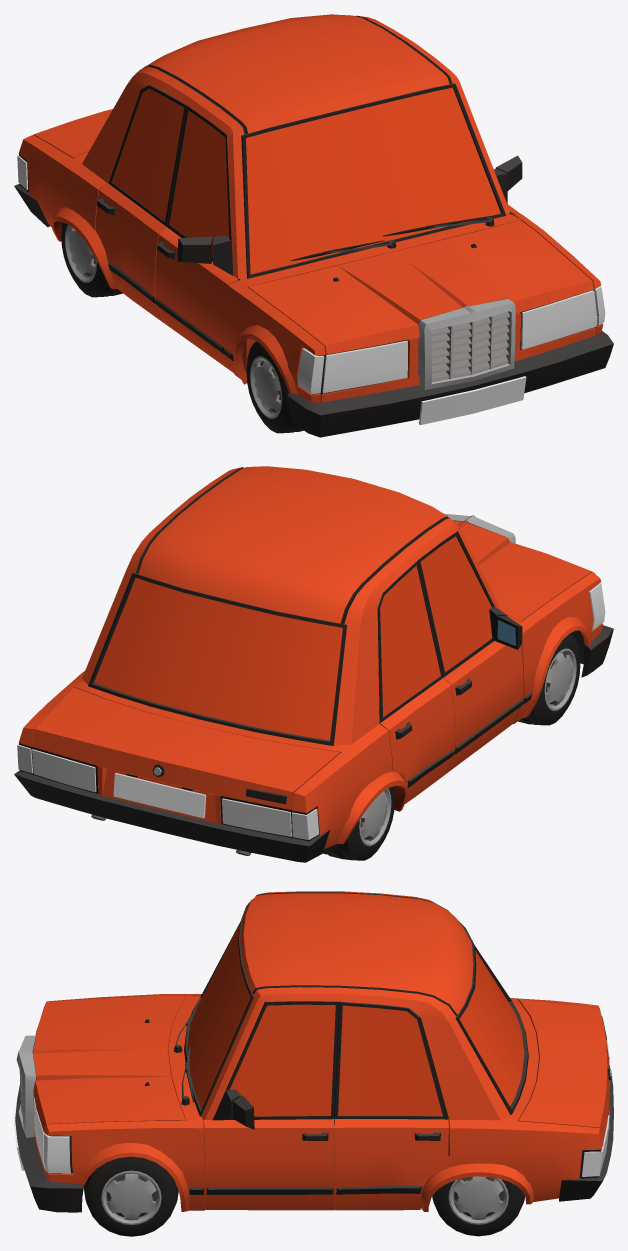
File: car2.fbx
3 views of the same model, one above another, from view 1: azimuth 30°, elevation 25°; view 2: azimuth 150°, elevation 25°; view 3: azimuth 270°, elevation 25° (orthographic). The views are drawn at different scales.
Parts seen in each view (by area): view 1: Body, Bonet, Doors_FR, Doors_RR, Bumper_F, FrontGrill, Fender_FR, Headlights_FR, Headlights_FL, Bootlid, rim.002, Wheel_FR (+6 smaller); view 2: Body, Bootlid, Doors_FR, Doors_RR, Bumper_R, Bonet, Fender_FR, Lights_RR, Lights_RL, rim.002, Wheel_FR, Wheel_RR (+4 smaller); view 3: Body, Doors_FL, Doors_RL, Bonet, Bootlid, Fender_FL, Wheel_FL, Bumper_F, rim, rim.001, Wheel_RL, FrontGrill (+4 smaller).
Boxes of the visible parts, x1,y1,x2,y2 form: Body: (18,14,596,402); Bonet: (248,220,593,354); Doors_FR: (155,105,240,372); Doors_RR: (96,85,186,323); Bumper_F: (287,331,613,437); FrontGrill: (418,299,515,389); Fender_FR: (224,280,325,402); Headlights_FR: (321,339,408,393); Headlights_FL: (520,290,597,349); Bootlid: (34,109,112,158); rim.002: (250,356,282,418); Wheel_FR: (246,341,312,433); Body: (18,466,520,855); Bootlid: (32,687,340,809); Doors_FR: (418,532,523,774); Doors_RR: (377,560,454,803); Bumper_R: (14,770,329,862); Bonet: (453,520,592,621); Fender_FR: (513,572,602,723); Lights_RR: (220,796,319,841); Lights_RL: (17,743,98,793); rim.002: (544,648,576,710); Wheel_FR: (518,633,580,725); Wheel_RR: (323,786,394,860); Body: (33,891,609,1211); Doors_FL: (203,1001,339,1210); Doors_RL: (334,1001,448,1210); Bonet: (33,995,185,1130); Bootlid: (518,998,612,1141); Fender_FL: (43,1120,205,1211); Wheel_FL: (84,1156,178,1236); Bumper_F: (14,1083,84,1212); rim: (101,1170,161,1225); rim.001: (448,1176,508,1224); Wheel_RL: (432,1179,524,1236); FrontGrill: (16,1035,35,1137).
Size of the model in its own units: 131 by 94.57 by 213.
